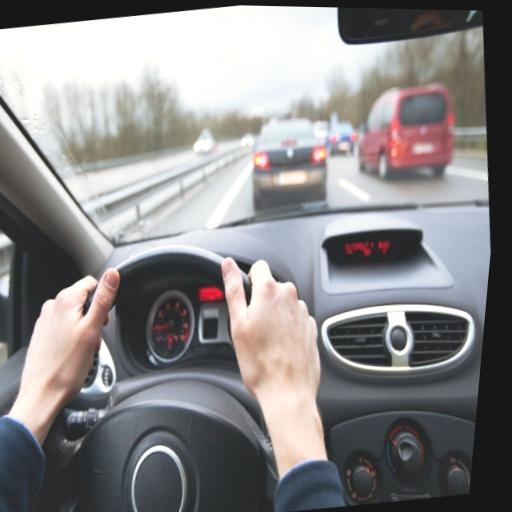Hands-on-the-Wheel: (0, 230, 164, 460), (180, 235, 352, 432)
